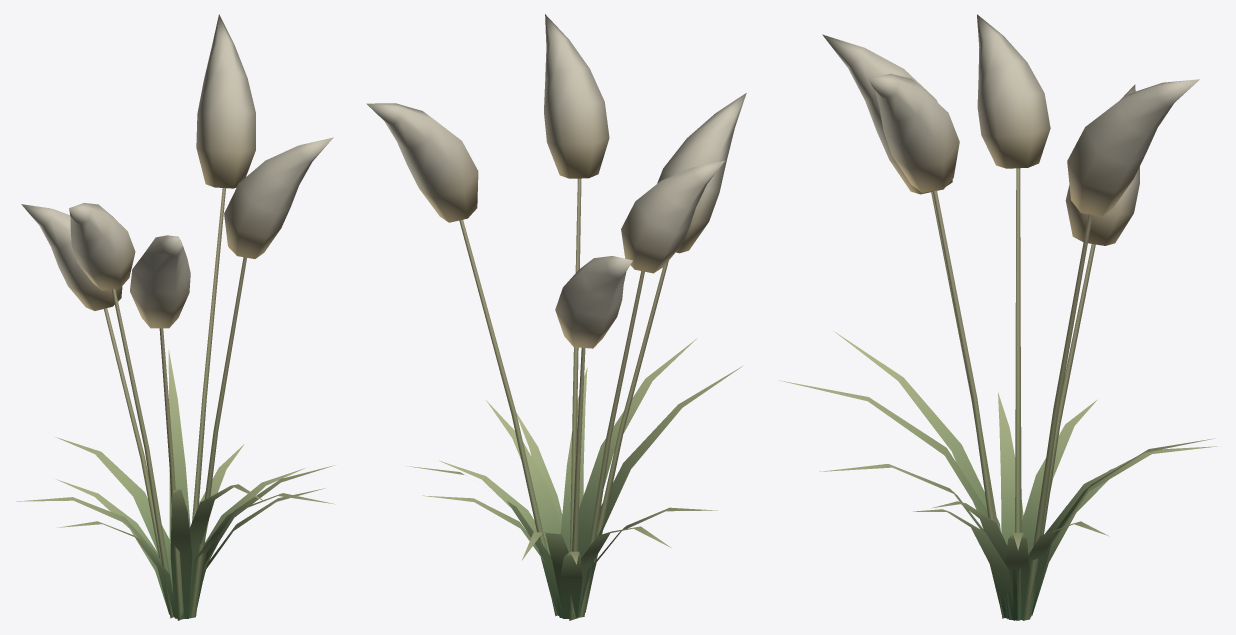
Rendered from east_plume.glb.
The picture shows the model from 3 angles, left to right: view 1: azimuth 30°, elevation 25°; view 2: azimuth 150°, elevation 25°; view 3: azimuth 270°, elevation 25°; orthographic projection. The views are drawn at different scales.
Visible parts, largest first — view 1: east_plume; view 2: east_plume; view 3: east_plume.
Part boxes in pixels (x1=…): east_plume: x1=16, y1=14, x2=335, y2=620; east_plume: x1=366, y1=14, x2=746, y2=620; east_plume: x1=779, y1=14, x2=1217, y2=620.
Bounding box in the file's own units: 1.57 × 2.96 × 1.99.
